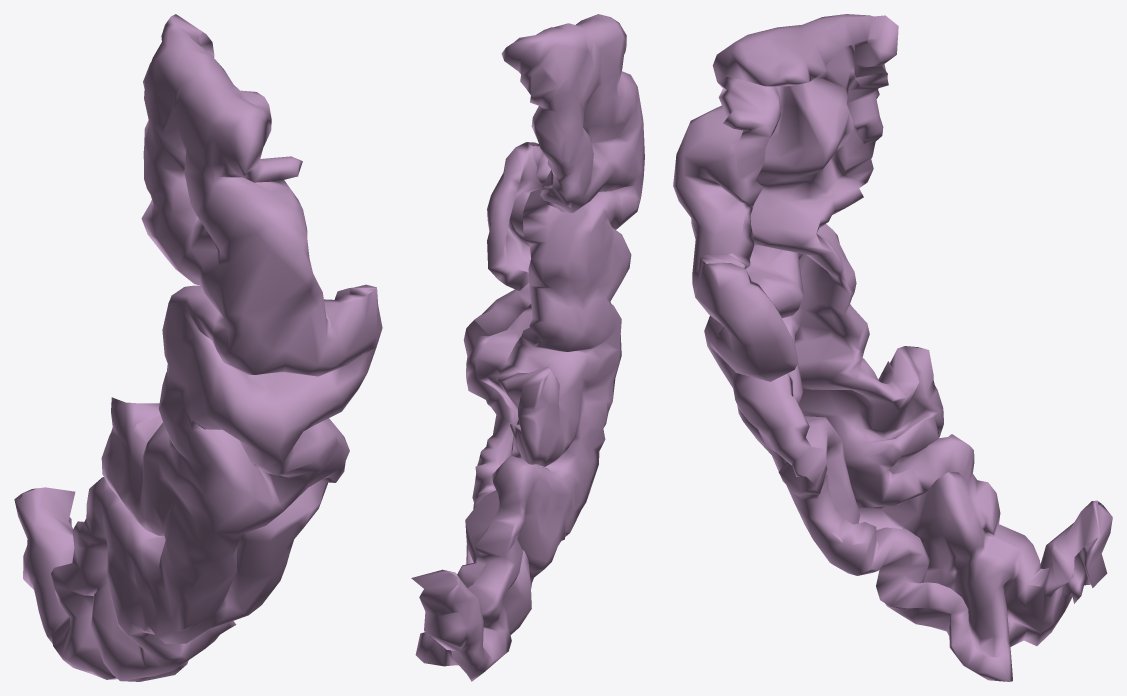
3 renders of one model, left to right at view 1: azimuth 30°, elevation 25°; view 2: azimuth 150°, elevation 25°; view 3: azimuth 270°, elevation 25°, orthographic. The views are drawn at different scales.
Parts seen in each view (by area): view 1: 左侧额上回; view 2: 左侧额上回; view 3: 左侧额上回.
Part boxes in pixels (x1,y1,x2,y2): 左侧额上回: [14, 14, 382, 681]; 左侧额上回: [411, 14, 644, 681]; 左侧额上回: [673, 14, 1112, 681].
Size of the model in its own units: 0.0414 by 0.1688 by 0.1048.
